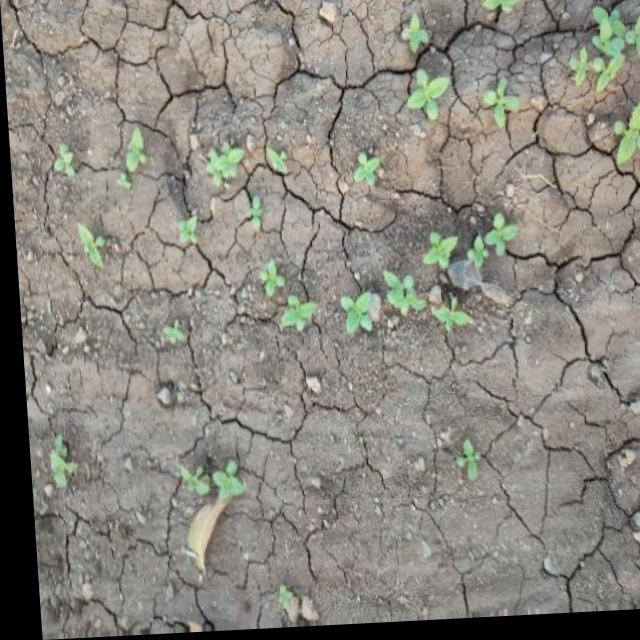crop: (415, 216, 537, 346), (198, 138, 293, 242), (546, 4, 640, 104), (399, 12, 451, 145), (331, 269, 413, 350), (252, 263, 320, 343), (159, 456, 244, 505), (60, 220, 121, 273), (593, 109, 640, 175), (477, 84, 531, 141), (106, 128, 146, 187), (346, 148, 379, 199)
